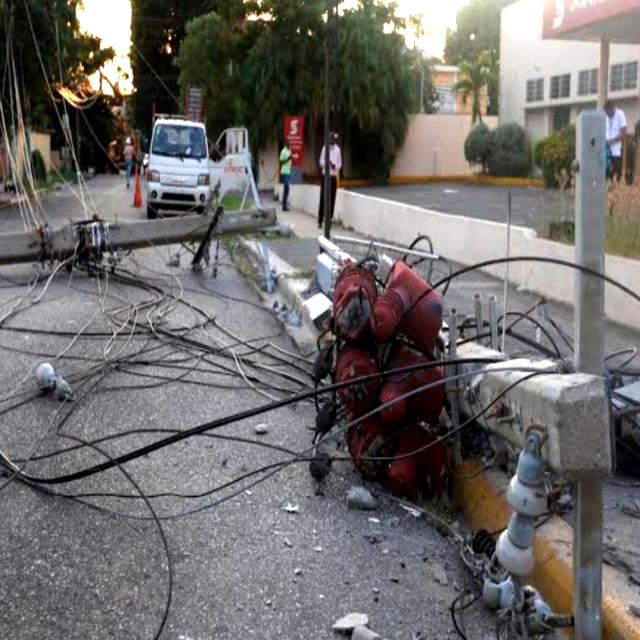Broken Pole: (304, 119, 610, 638)
